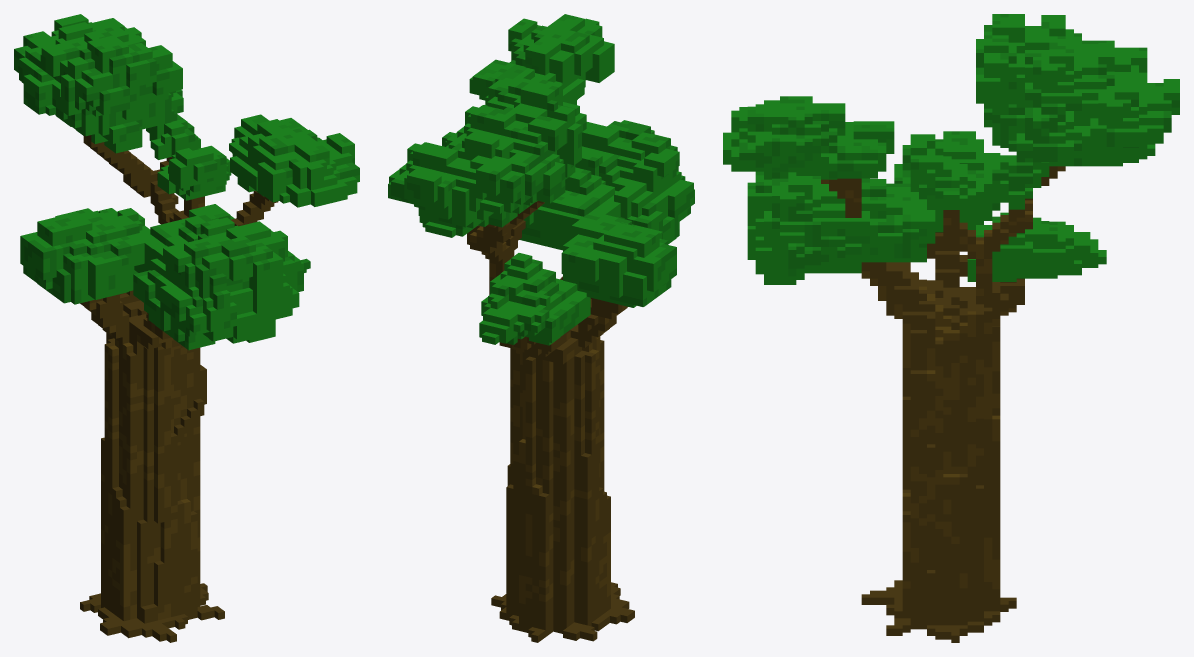
File: Tree2.obj
The picture shows the model from 3 angles, left to right: view 1: azimuth 30°, elevation 25°; view 2: azimuth 150°, elevation 25°; view 3: azimuth 270°, elevation 25°; orthographic projection. The views are drawn at different scales.
Size of the model in its own units: 3.5 by 7.9 by 5.6.
1 material, 1 textured.
